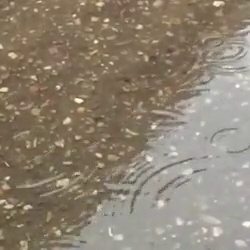drop: (122, 159, 208, 211), (9, 127, 56, 160), (205, 41, 250, 75), (210, 126, 249, 155), (3, 91, 34, 112), (93, 24, 122, 42), (74, 75, 91, 91)
